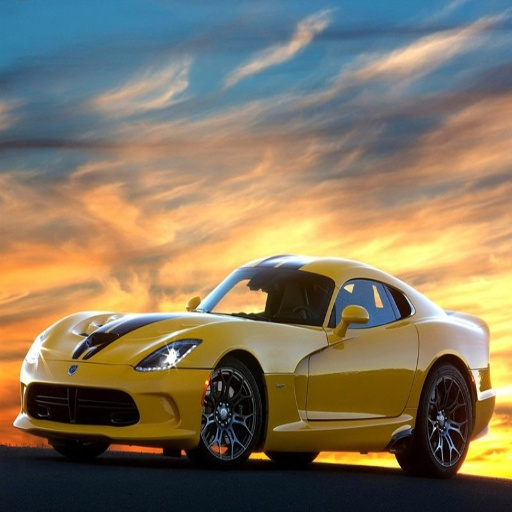back_glass: (262, 263, 319, 303)
front_bumper: (20, 335, 210, 452)
front_glass: (210, 270, 270, 315)
front_left_door: (305, 276, 390, 418)
